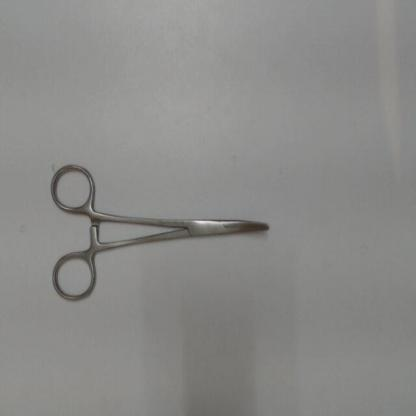Crile Artery Forceps: (45, 154, 277, 308)
